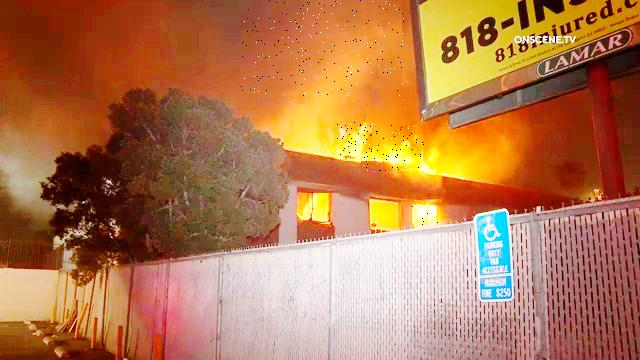fire: (362, 126, 426, 175), (335, 122, 375, 161), (304, 194, 341, 227), (413, 202, 440, 227)
smoke: (242, 1, 405, 97)
